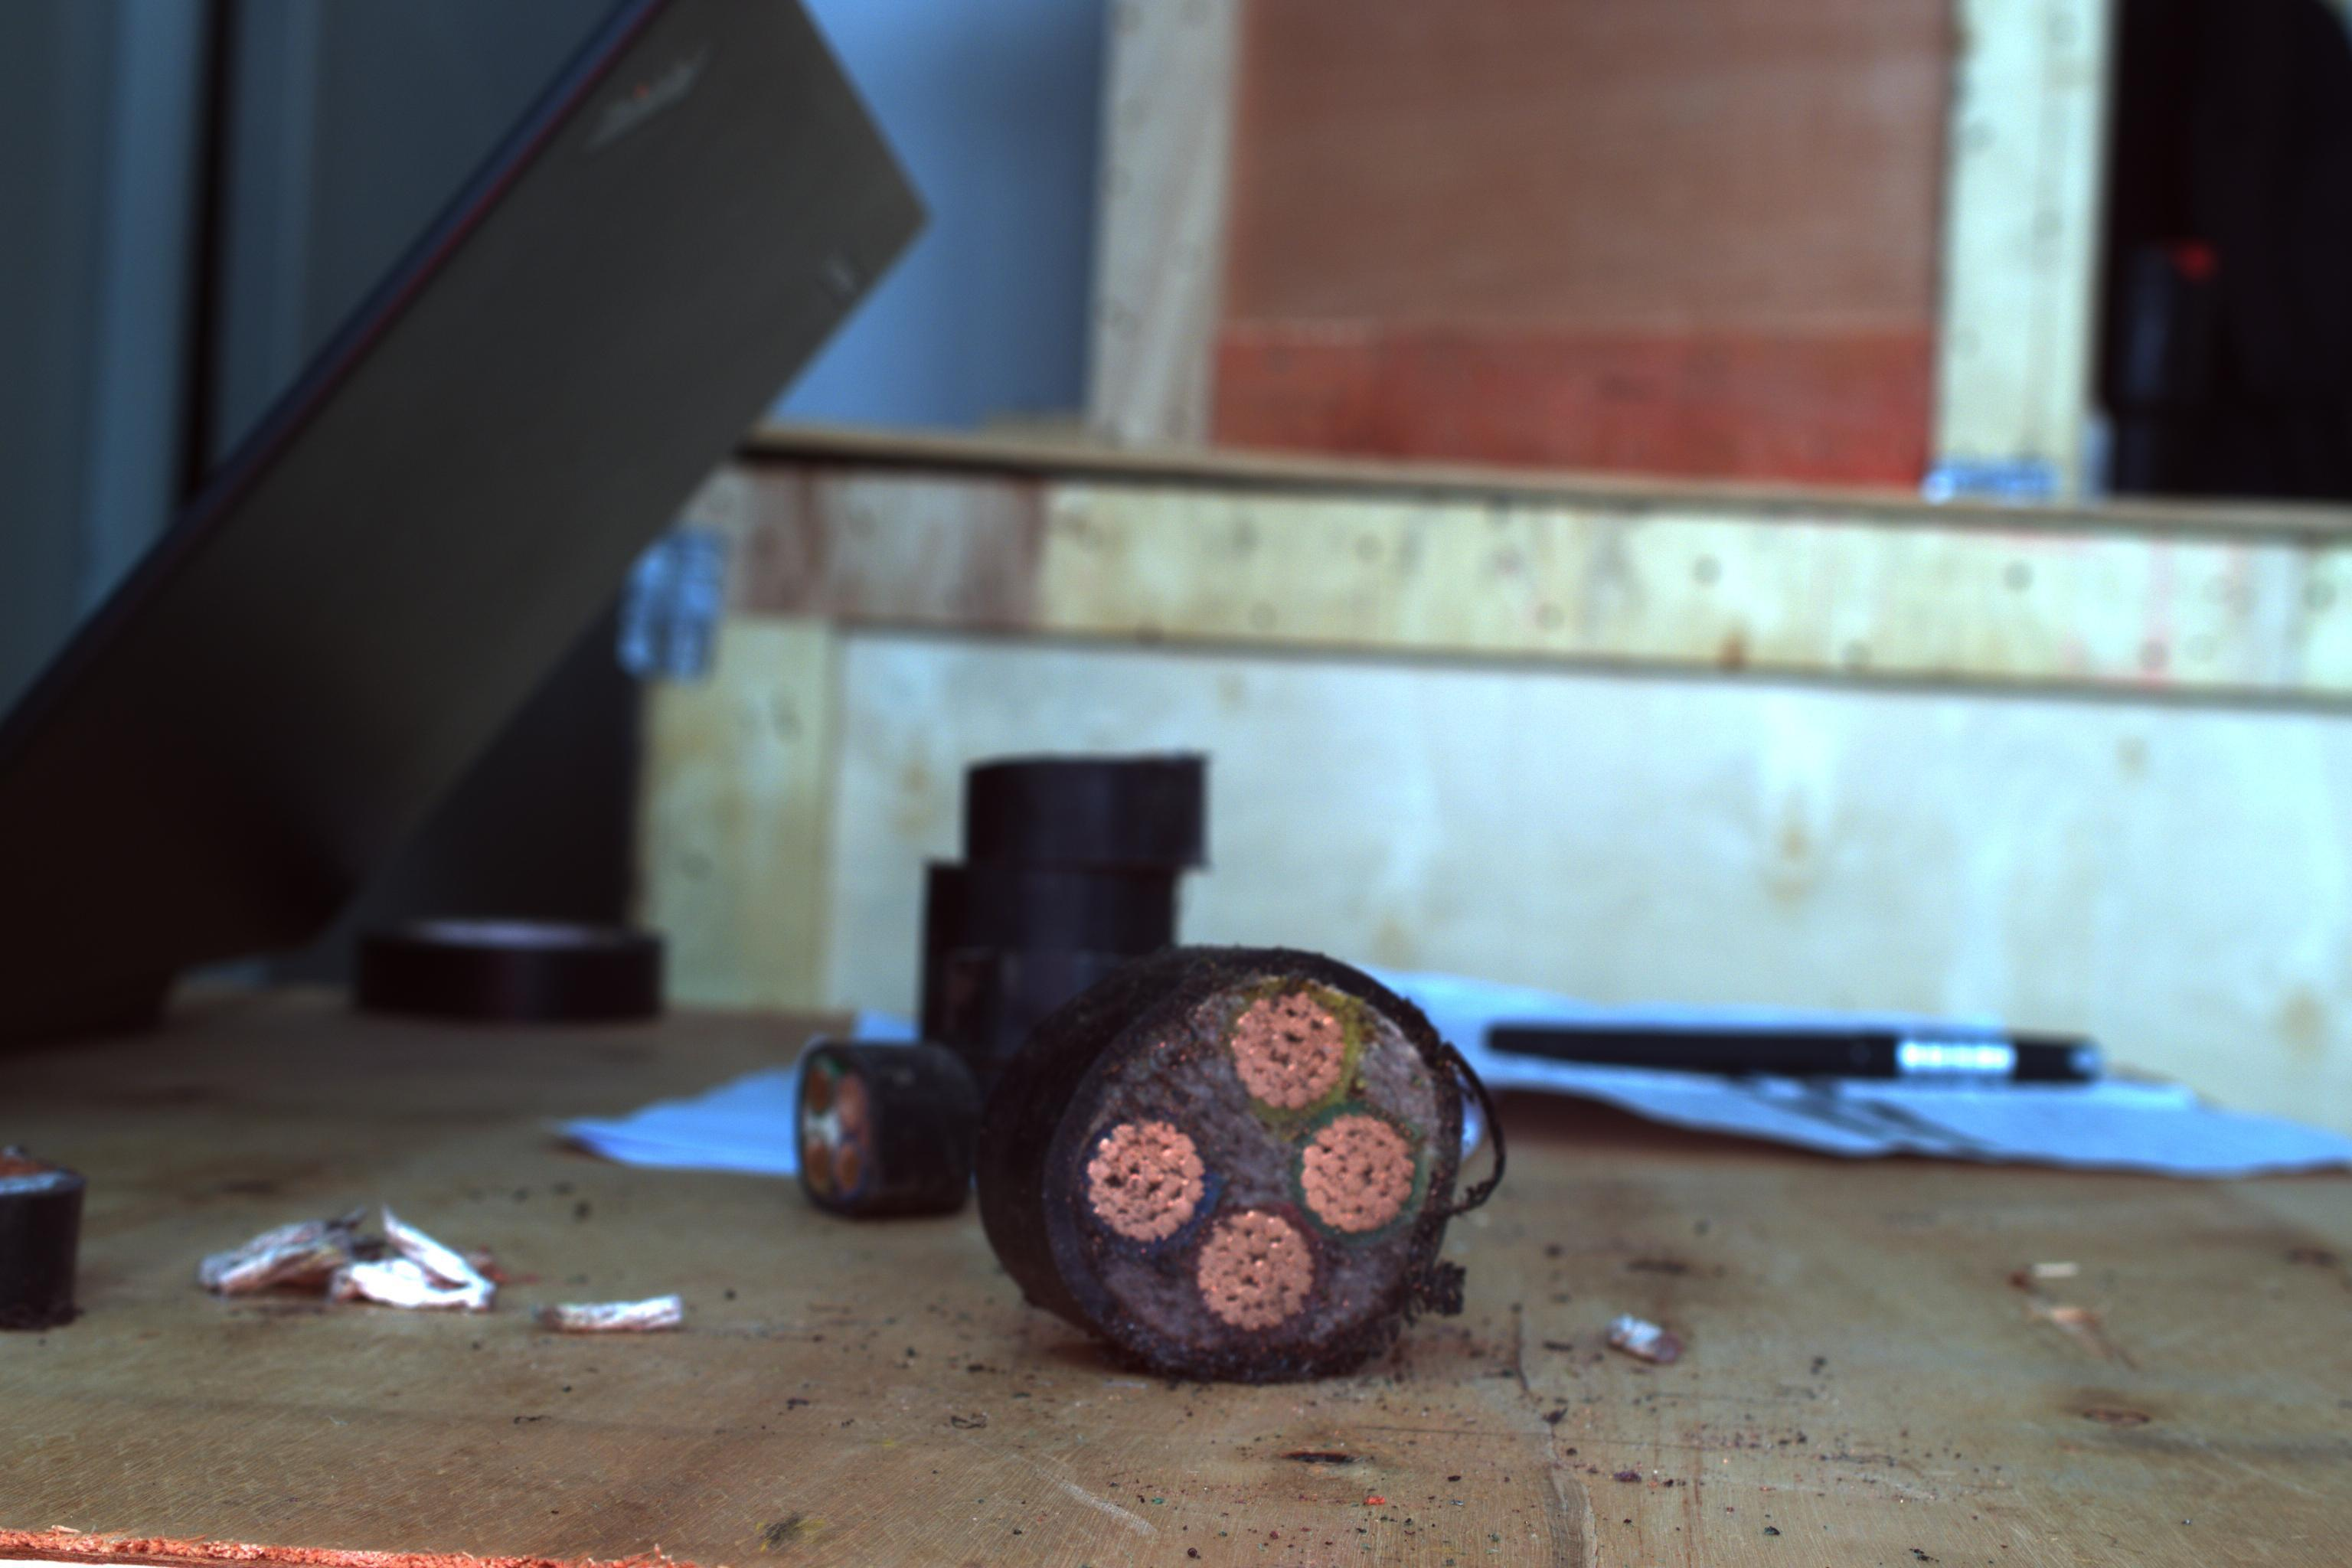YJV_0.6_1kV_4x120: (1034, 955, 1466, 1409)
